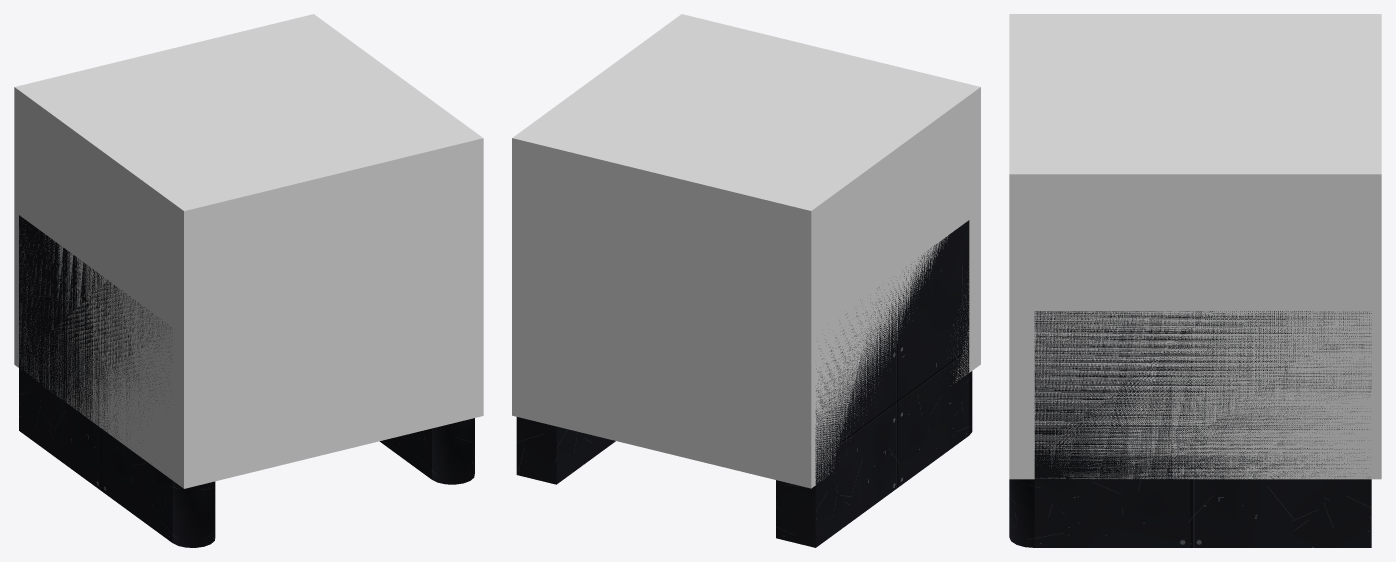
Rendered from Furn_Armchair.gltf.
3 views of the same model, side by side, from view 1: azimuth 30°, elevation 25°; view 2: azimuth 150°, elevation 25°; view 3: azimuth 270°, elevation 25° (orthographic). The views are drawn at different scales.
Visible parts, largest first — view 1: Furn_Armchair_COL, Furn_Armchair; view 2: Furn_Armchair_COL, Furn_Armchair; view 3: Furn_Armchair_COL, Furn_Armchair.
Part boxes in pixels (x1=…): Furn_Armchair_COL: x1=14, y1=14, x2=483, y2=488; Furn_Armchair: x1=19, y1=215, x2=474, y2=547; Furn_Armchair_COL: x1=512, y1=14, x2=980, y2=488; Furn_Armchair: x1=516, y1=220, x2=972, y2=547; Furn_Armchair_COL: x1=1009, y1=14, x2=1381, y2=479; Furn_Armchair: x1=1009, y1=311, x2=1371, y2=547.
Bounding box in the file's own units: 0.9 × 0.978 × 0.8834.
Materials: 3 (1 with a texture image).
